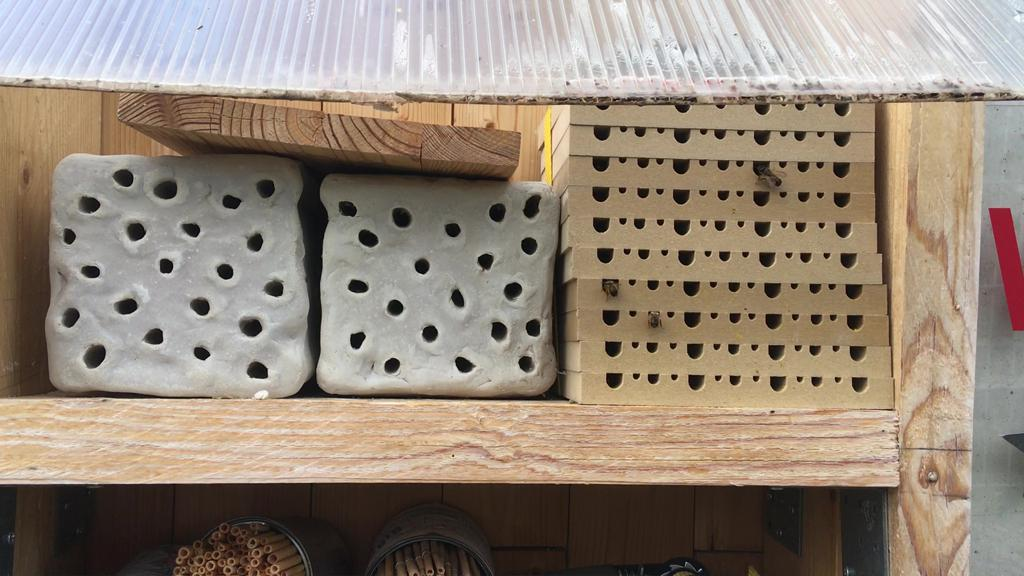bee: (642, 299, 666, 335), (597, 275, 628, 300)
